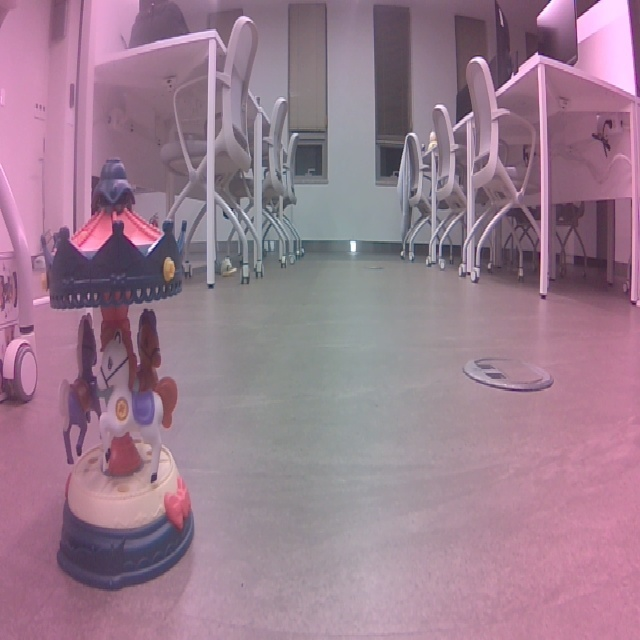목적지: (55, 150, 248, 558)
